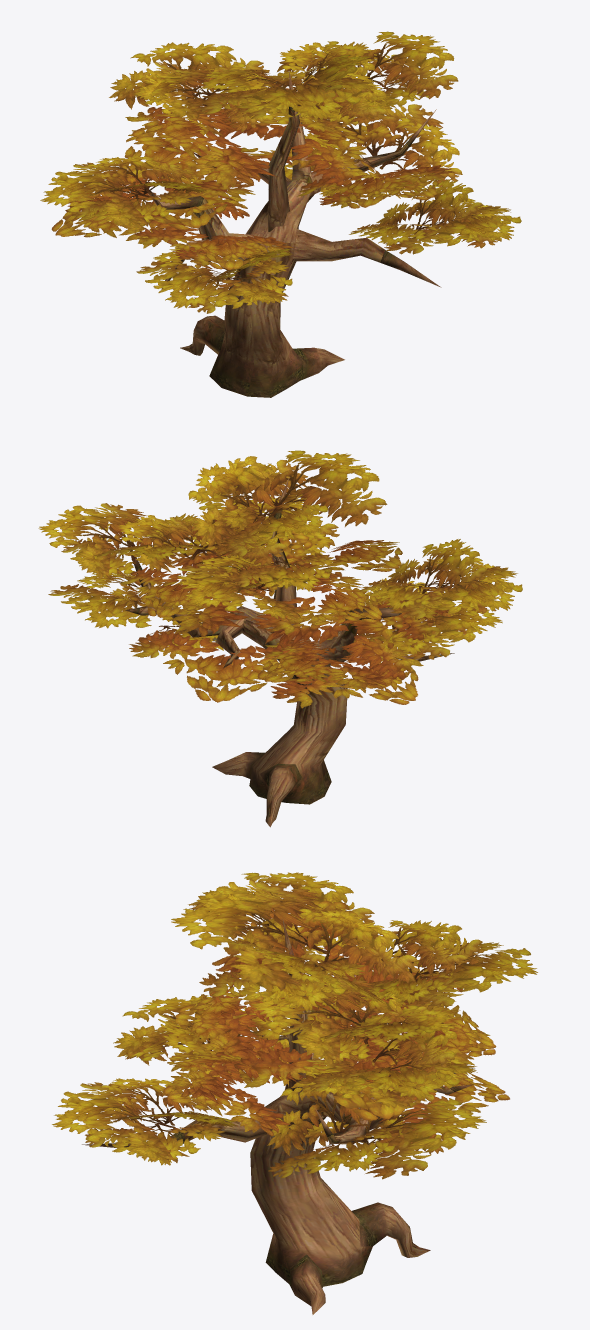
Rendered from environment_Tree_yellow_001_b1.FBX.
3 views of the same model, one above another, from view 1: azimuth 30°, elevation 25°; view 2: azimuth 150°, elevation 25°; view 3: azimuth 270°, elevation 25° (orthographic). The views are drawn at different scales.
Parts seen in each view (by area): view 1: environment_Tree_yellow_001_b1, environment_Tree_yellow_001_b2; view 2: environment_Tree_yellow_001_b1, environment_Tree_yellow_001_b2; view 3: environment_Tree_yellow_001_b1, environment_Tree_yellow_001_b2.
Boxes of the visible parts, x1,y1,x2,y2 form: environment_Tree_yellow_001_b1: (40, 31, 521, 313); environment_Tree_yellow_001_b2: (148, 72, 441, 397); environment_Tree_yellow_001_b1: (38, 450, 522, 708); environment_Tree_yellow_001_b2: (125, 477, 454, 827); environment_Tree_yellow_001_b1: (52, 872, 537, 1179); environment_Tree_yellow_001_b2: (82, 919, 474, 1314).
Size of the model in its own units: 1419 by 891 by 1216.
2 materials, 2 textured.
